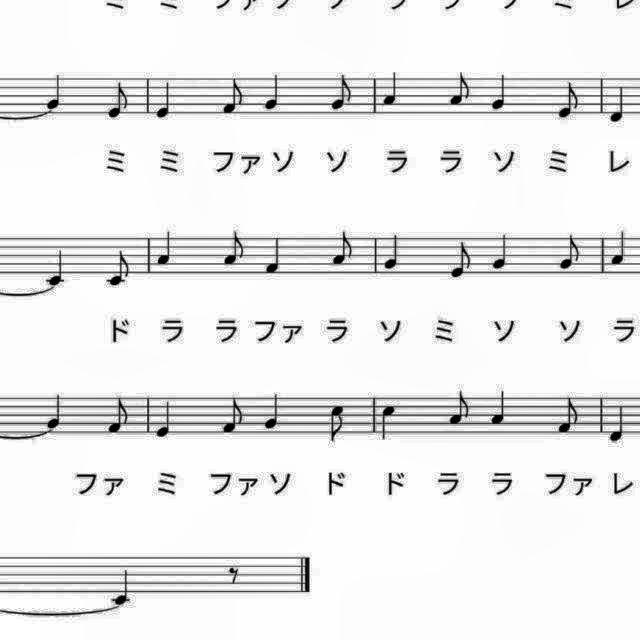Eighth-note: (553, 78, 585, 124), (327, 70, 359, 116), (102, 78, 134, 124), (444, 68, 476, 112), (102, 393, 134, 437), (218, 394, 250, 438), (552, 393, 584, 437), (102, 248, 134, 292), (218, 74, 250, 118), (446, 238, 476, 284), (219, 227, 251, 270), (328, 227, 359, 270), (555, 230, 585, 274), (325, 399, 353, 446), (445, 386, 475, 429)
Eighth-rest: (222, 560, 245, 588)
Quarter-note: (108, 563, 140, 605), (150, 78, 178, 124), (604, 83, 632, 129), (43, 246, 73, 288), (262, 232, 290, 276), (261, 389, 287, 435), (380, 229, 406, 275), (261, 69, 287, 115), (489, 229, 515, 275), (487, 71, 513, 117), (604, 401, 630, 447), (153, 398, 179, 442), (380, 68, 404, 112), (43, 70, 69, 110), (44, 392, 70, 432), (154, 227, 178, 270), (488, 388, 512, 430), (606, 227, 630, 269), (377, 402, 401, 444)
